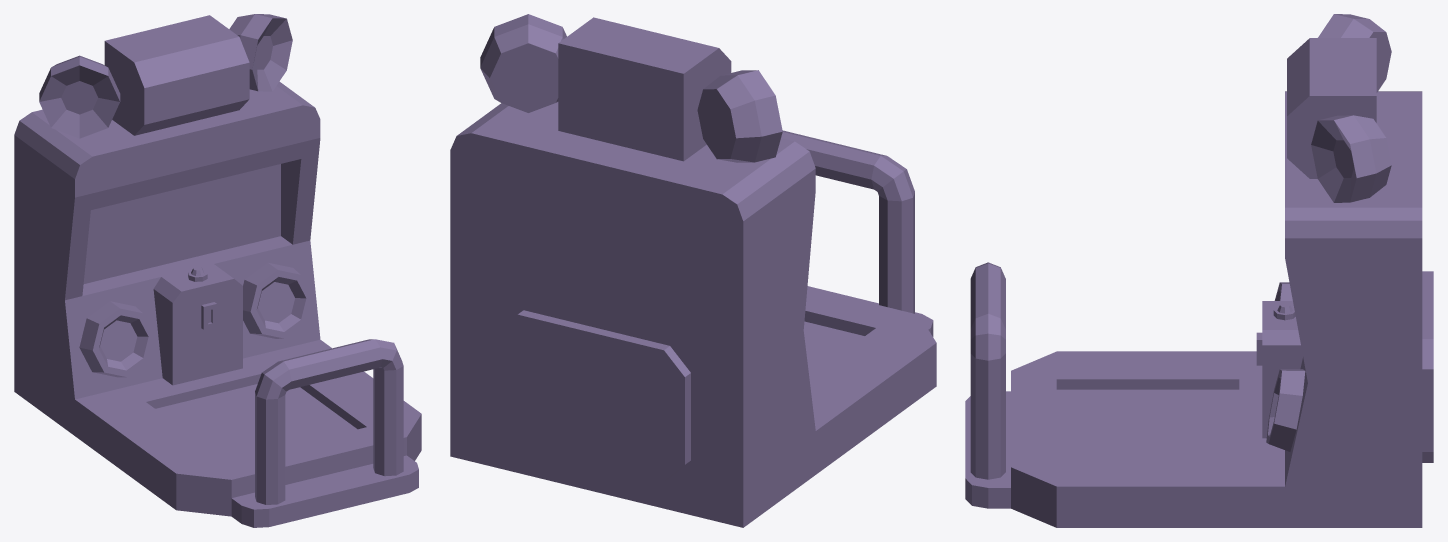
Rendered from dance-machine.obj.
3 renders of one model, left to right at view 1: azimuth 30°, elevation 25°; view 2: azimuth 150°, elevation 25°; view 3: azimuth 270°, elevation 25°, orthographic. The views are drawn at different scales.
Size of the model in its own units: 0.7232 by 0.95 by 1.02.
